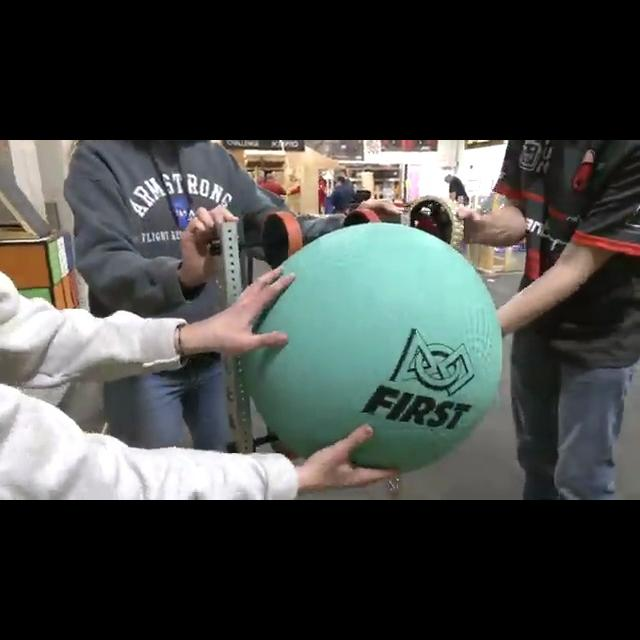ALGAE: (238, 220, 504, 472)
